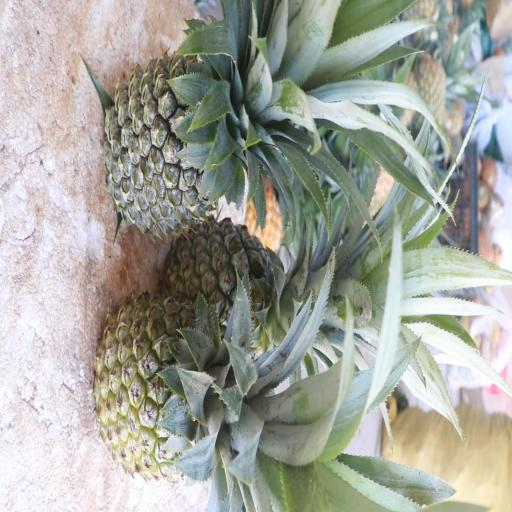------------------------------: (92, 287, 326, 493), (164, 215, 352, 358)
